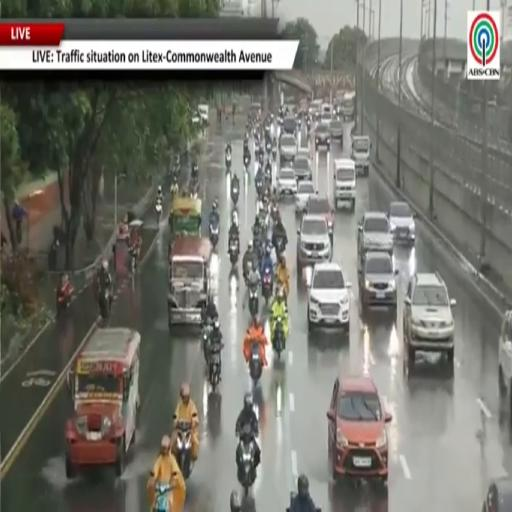car: (327, 376, 392, 485), (403, 272, 456, 367), (308, 263, 351, 333), (359, 252, 398, 312), (358, 212, 393, 268), (297, 215, 332, 267), (333, 158, 356, 211), (499, 311, 511, 410), (305, 195, 333, 237), (388, 202, 415, 245), (482, 476, 511, 511), (351, 136, 371, 175), (295, 180, 317, 214), (277, 168, 297, 197), (294, 156, 312, 180), (280, 135, 296, 162), (315, 123, 330, 150), (330, 119, 343, 145), (296, 147, 312, 164), (310, 100, 323, 120), (283, 116, 296, 136), (198, 103, 209, 125), (249, 102, 261, 120), (320, 111, 332, 124)
jeepney: (65, 328, 140, 478), (168, 237, 212, 329), (169, 197, 202, 239)
motorcycle: (237, 428, 256, 495), (175, 420, 193, 479), (249, 341, 262, 388), (272, 317, 286, 359), (152, 482, 172, 511), (56, 283, 73, 315), (209, 346, 220, 391), (99, 288, 110, 324), (262, 268, 272, 305), (202, 324, 211, 364), (249, 286, 258, 317), (128, 247, 138, 274), (274, 236, 285, 259), (230, 238, 239, 265), (209, 222, 218, 248), (286, 492, 296, 511), (255, 175, 263, 198), (231, 182, 239, 204), (156, 199, 162, 225), (191, 180, 199, 199), (226, 152, 232, 172), (265, 165, 272, 181), (244, 155, 250, 170), (258, 151, 264, 166), (306, 118, 311, 132), (266, 142, 271, 154), (272, 147, 276, 161)
